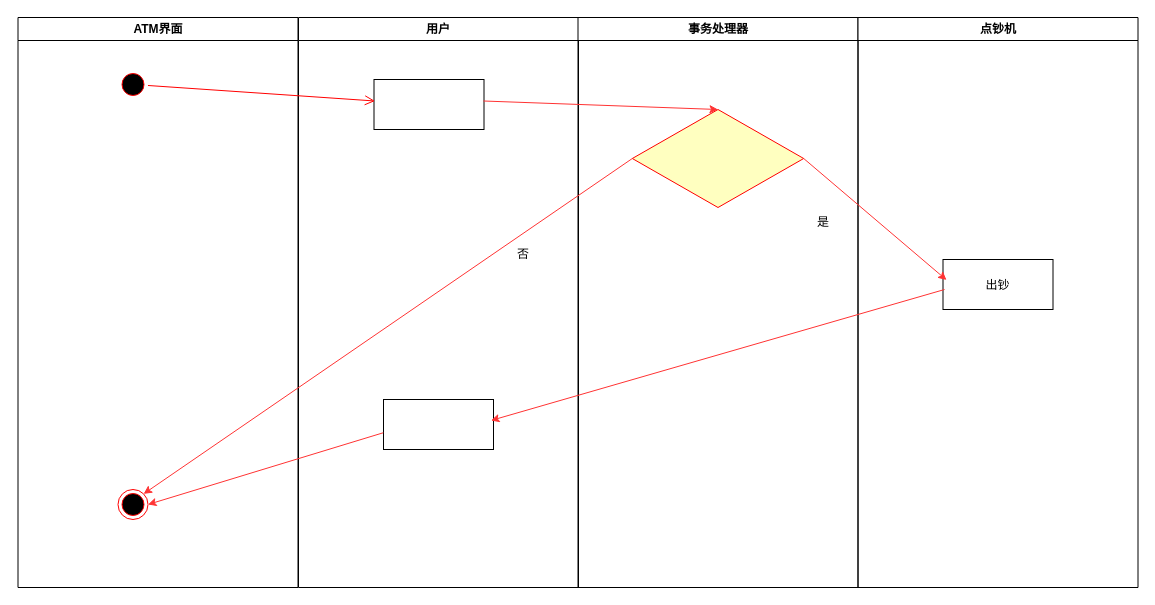
Some shapes in this 1155 by 605 pixel diagram are drawn without their labels. The centre of each missing label's shape, as x and y in pixels:
判断该用户账户余额 是否大于等于取款金额 且输入数据是否合法: the point at 717,158
取走现金: the point at 438,424
选择取款选项， 输入取款金额: the point at 428,104
